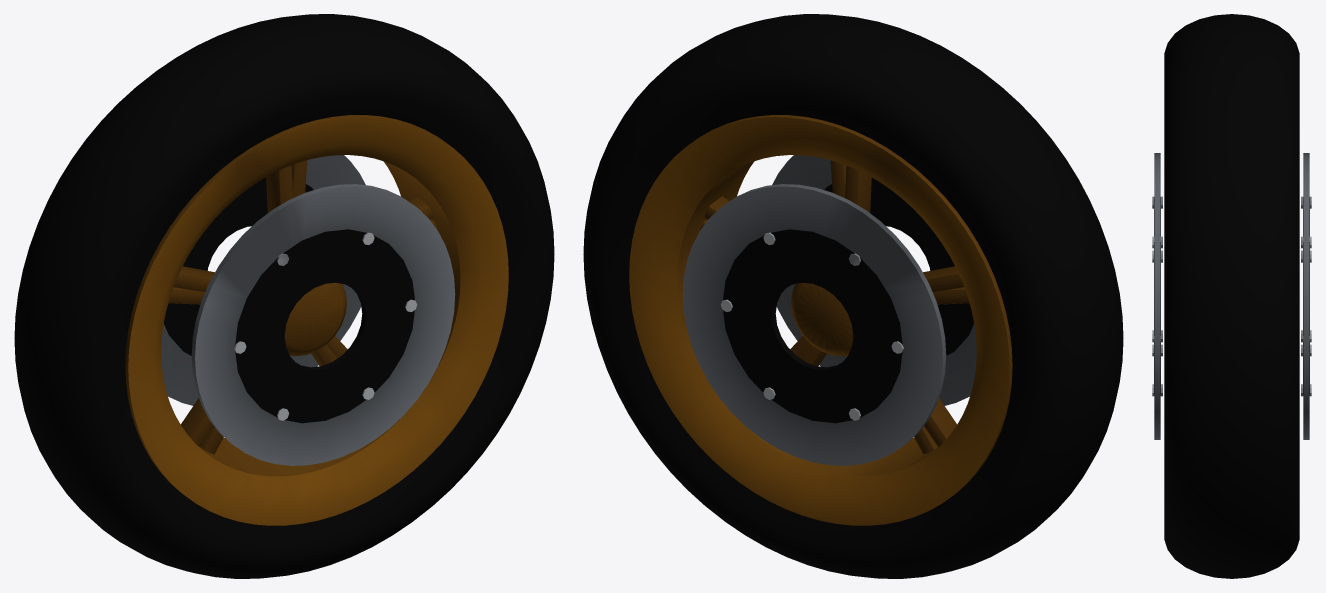
The model's file is bike_corsa_wheelF.glb.
3 renders of one model, left to right at view 1: azimuth 30°, elevation 25°; view 2: azimuth 150°, elevation 25°; view 3: azimuth 270°, elevation 25°, orthographic. The views are drawn at different scales.
Parts seen in each view (by area): view 1: bk_wheelF_tyre, bk_wheelF_rim, bk_wheelF_disc0.08, bk_wheelF_carrier0.08, bk_wheelF_disc-0.08, bk_wheelF_carrier-0.08, bk_wheelF_hub, bk_wheelF_sp1_11, bk_wheelF_sp3_-11, bk_wheelF_sp2_-11; view 2: bk_wheelF_tyre, bk_wheelF_rim, bk_wheelF_disc-0.08, bk_wheelF_carrier-0.08, bk_wheelF_disc0.08, bk_wheelF_carrier0.08, bk_wheelF_hub, bk_wheelF_sp1_11, bk_wheelF_sp3_-11, bk_wheelF_sp2_-11; view 3: bk_wheelF_tyre, bk_wheelF_disc0.08, bk_wheelF_disc-0.08, bk_wheelF_carrier0.08, bk_wheelF_carrier-0.08.
Boxes of the visible parts, x1,y1,x2,y2 form: bk_wheelF_tyre: [14, 14, 554, 578]; bk_wheelF_rim: [125, 115, 508, 525]; bk_wheelF_disc0.08: [191, 184, 455, 465]; bk_wheelF_carrier0.08: [235, 229, 414, 423]; bk_wheelF_disc-0.08: [161, 155, 365, 405]; bk_wheelF_carrier-0.08: [163, 177, 313, 355]; bk_wheelF_hub: [284, 282, 346, 356]; bk_wheelF_sp1_11: [266, 165, 292, 212]; bk_wheelF_sp3_-11: [180, 398, 213, 446]; bk_wheelF_sp2_-11: [174, 266, 214, 291]; bk_wheelF_tyre: [583, 14, 1123, 578]; bk_wheelF_rim: [629, 115, 1012, 525]; bk_wheelF_disc-0.08: [682, 184, 946, 465]; bk_wheelF_carrier-0.08: [723, 229, 902, 423]; bk_wheelF_disc0.08: [772, 155, 976, 405]; bk_wheelF_carrier0.08: [824, 177, 974, 355]; bk_wheelF_hub: [791, 282, 853, 356]; bk_wheelF_sp1_11: [845, 165, 871, 212]; bk_wheelF_sp3_-11: [924, 398, 957, 446]; bk_wheelF_sp2_-11: [923, 266, 963, 291]; bk_wheelF_tyre: [1164, 14, 1299, 578]; bk_wheelF_disc0.08: [1154, 153, 1160, 439]; bk_wheelF_disc-0.08: [1303, 153, 1309, 439]; bk_wheelF_carrier0.08: [1154, 197, 1160, 394]; bk_wheelF_carrier-0.08: [1303, 197, 1309, 394].
Bounding box in the file's own units: 0.63 × 0.63 × 0.178.
